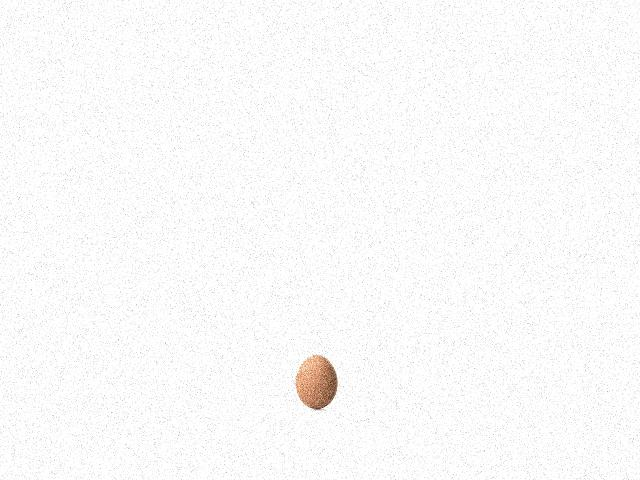egg: (296, 355, 337, 409)
